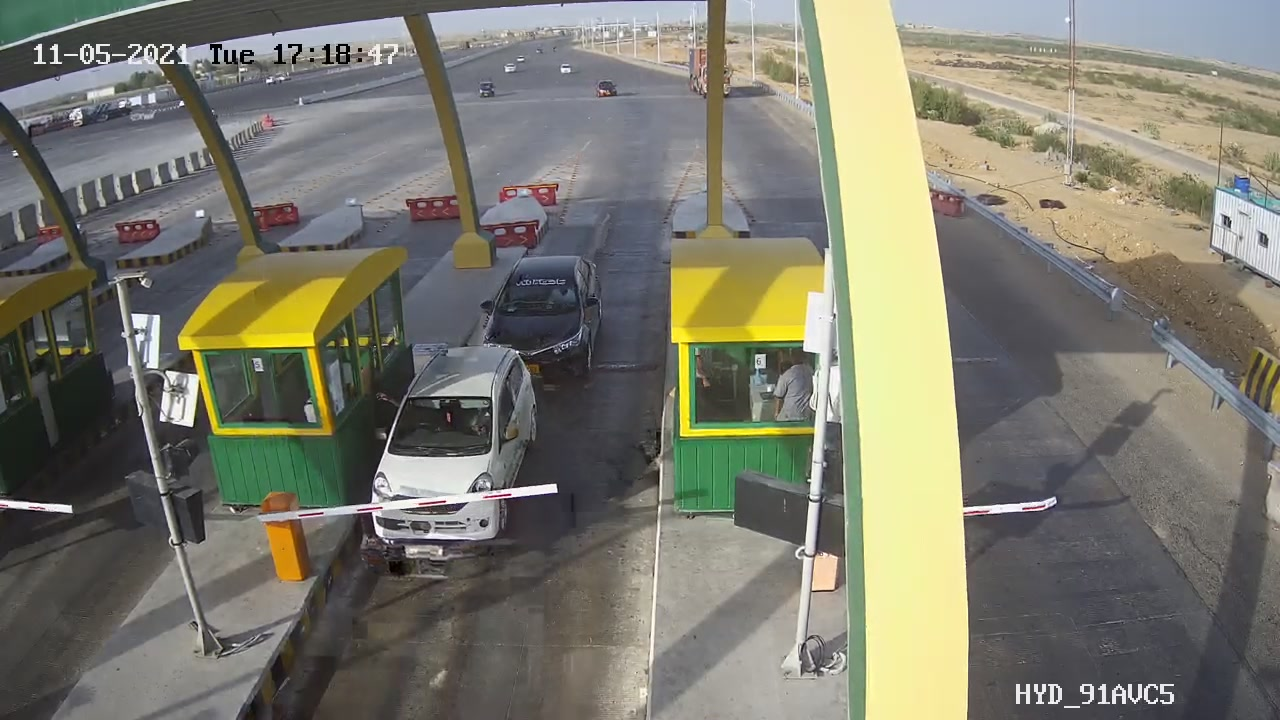F1: (366, 334, 550, 557), (470, 247, 617, 390)
